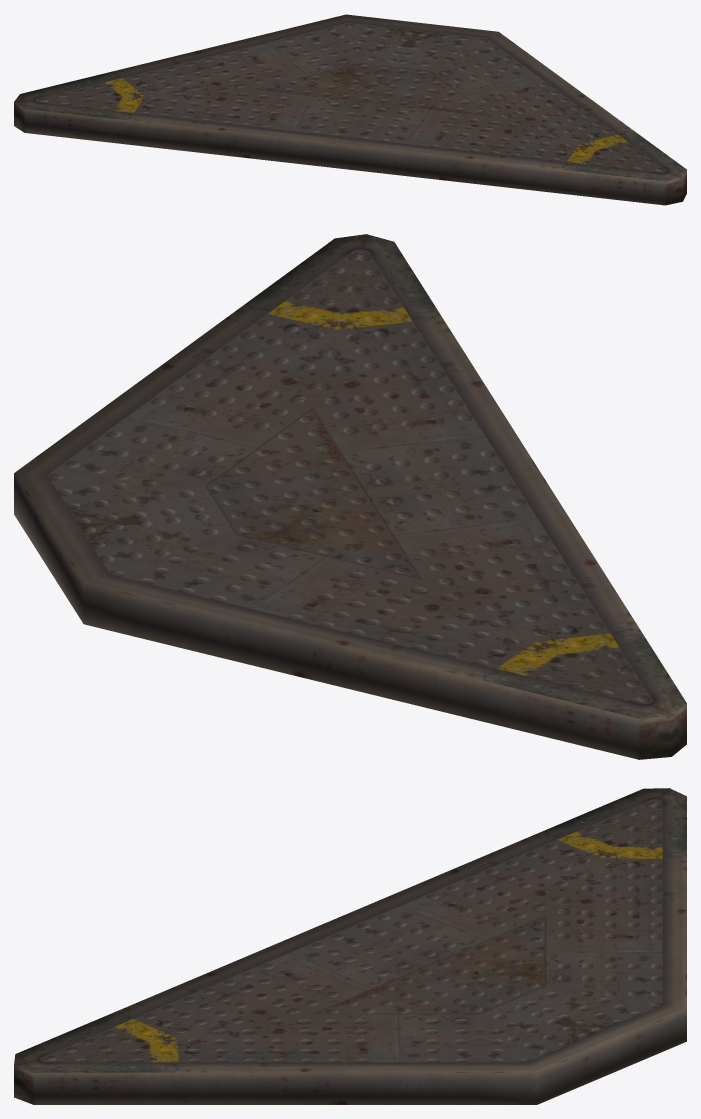
Rendered from Floor_E_2'5qmts_14.fbx.
3 renders of one model, top to bottom at view 1: azimuth 30°, elevation 25°; view 2: azimuth 150°, elevation 25°; view 3: azimuth 270°, elevation 25°, orthographic. The views are drawn at different scales.
Parts seen in each view (by area): view 1: Floor_E_2'5qmts_14; view 2: Floor_E_2'5qmts_14; view 3: Floor_E_2'5qmts_14.
Boxes of the visible parts, x1,y1,x2,y2 form: Floor_E_2'5qmts_14: (14,14,686,205); Floor_E_2'5qmts_14: (14,234,686,759); Floor_E_2'5qmts_14: (14,788,686,1104).
Bounding box in the file's own units: 236 × 12.5 × 236.
